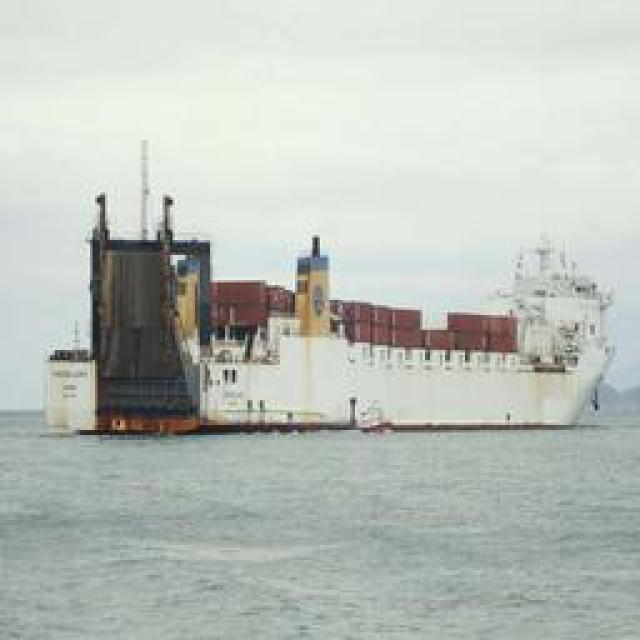Ship: (121, 196, 604, 436)
